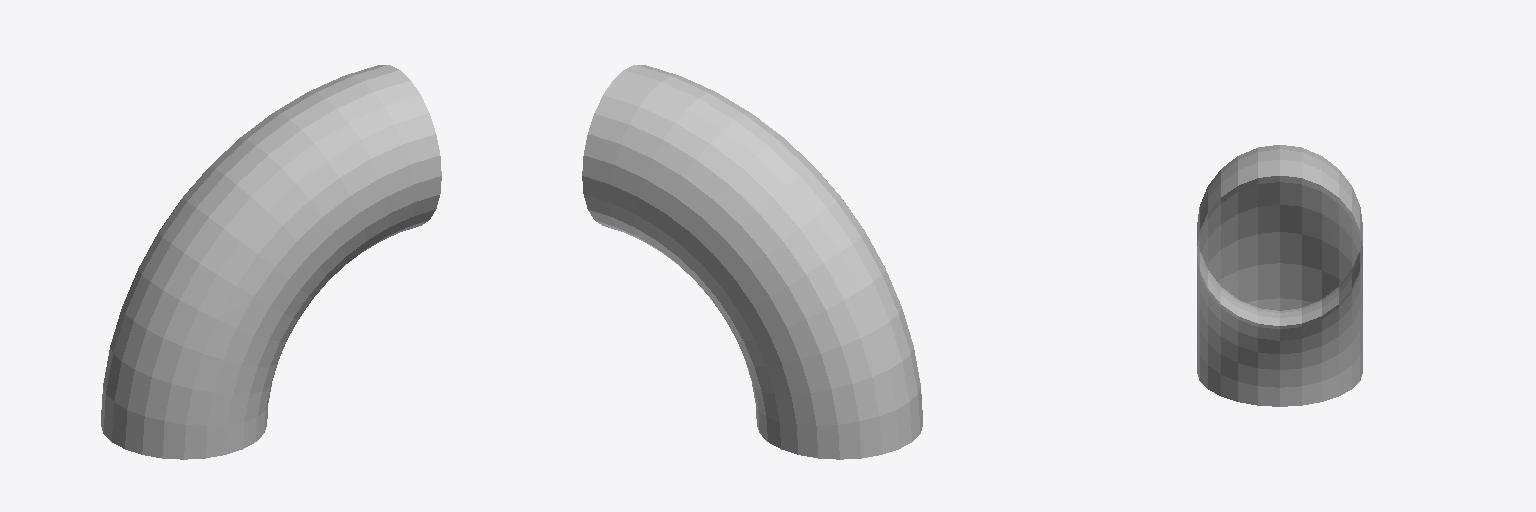
File: pipe_1_ancle.obj
3 views of the same model, side by side, from view 1: azimuth 30°, elevation 25°; view 2: azimuth 150°, elevation 25°; view 3: azimuth 270°, elevation 25° (orthographic).
Visible parts, largest first — view 1: pipe_1_ancle; view 2: pipe_1_ancle; view 3: pipe_1_ancle.
Part boxes in pixels (bbox=[...]): pipe_1_ancle: bbox=[101, 65, 441, 459]; pipe_1_ancle: bbox=[582, 65, 922, 459]; pipe_1_ancle: bbox=[1197, 145, 1362, 406].
Size of the model in its own units: 0.4 by 0.4 by 0.2.